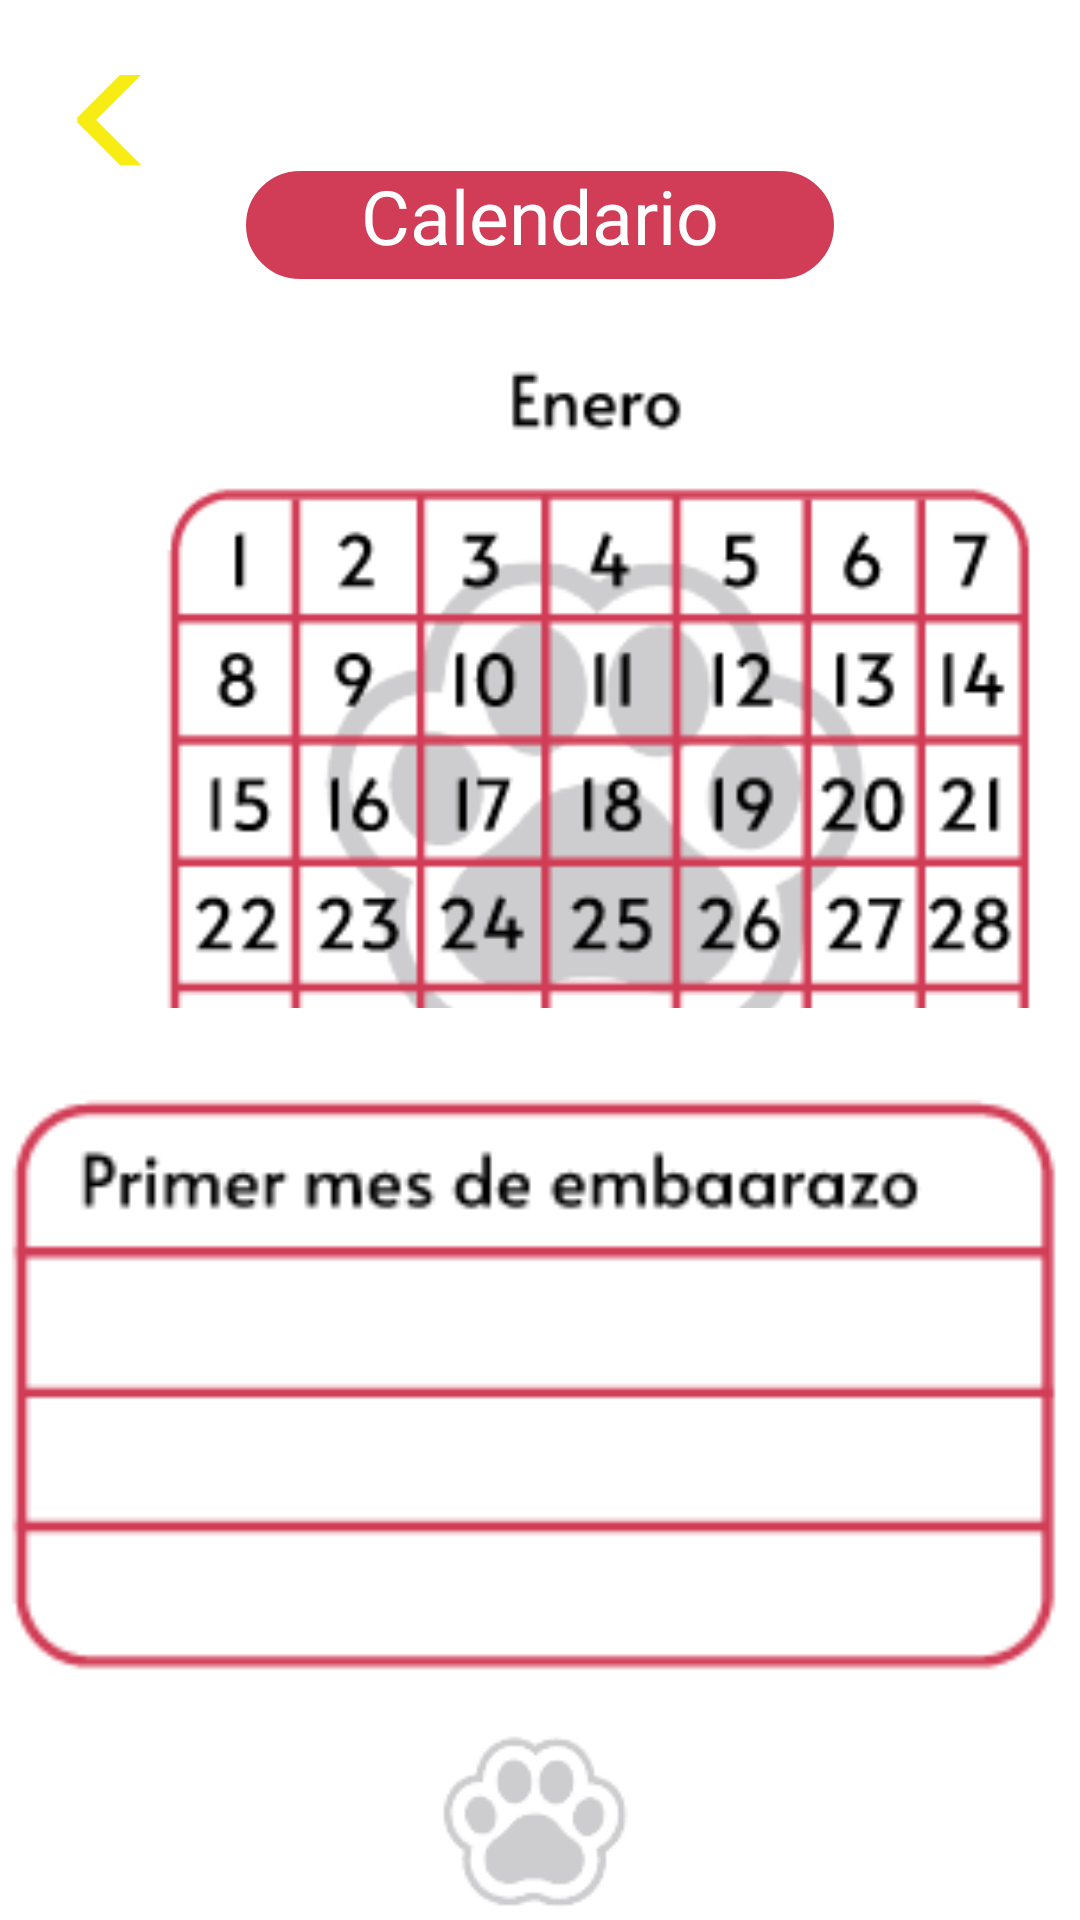

Icons on this 1080w x 1920h Android screen, each with the point to tap as [x,y]:
flecha: [108,120]
